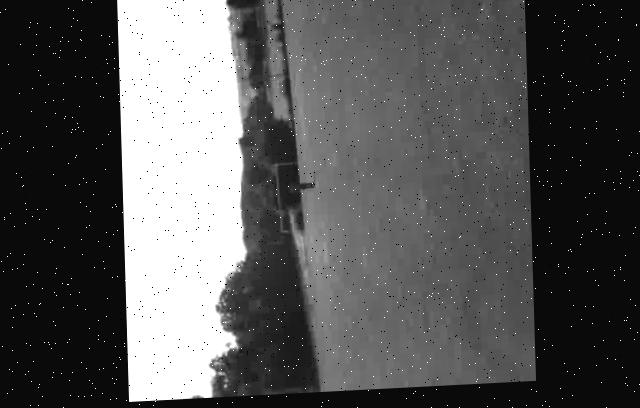drone: (204, 0, 533, 400)
